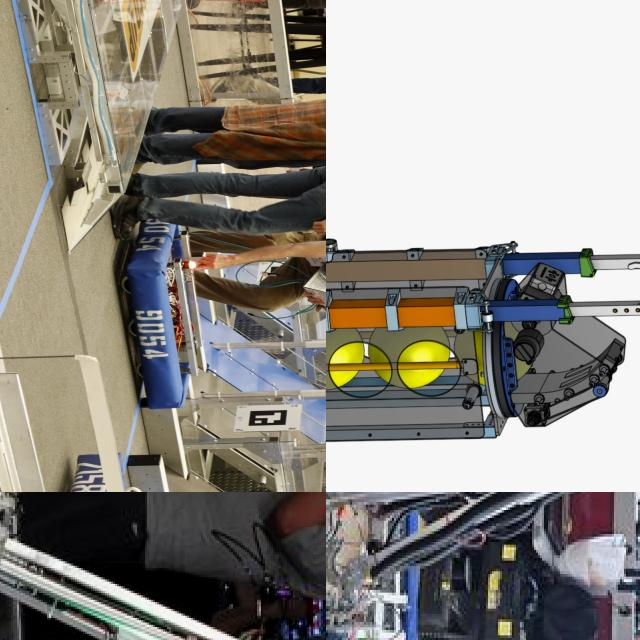FRC-Robots: (326, 0, 640, 492), (0, 492, 321, 640), (326, 492, 640, 640), (119, 196, 326, 394), (53, 443, 326, 492)
